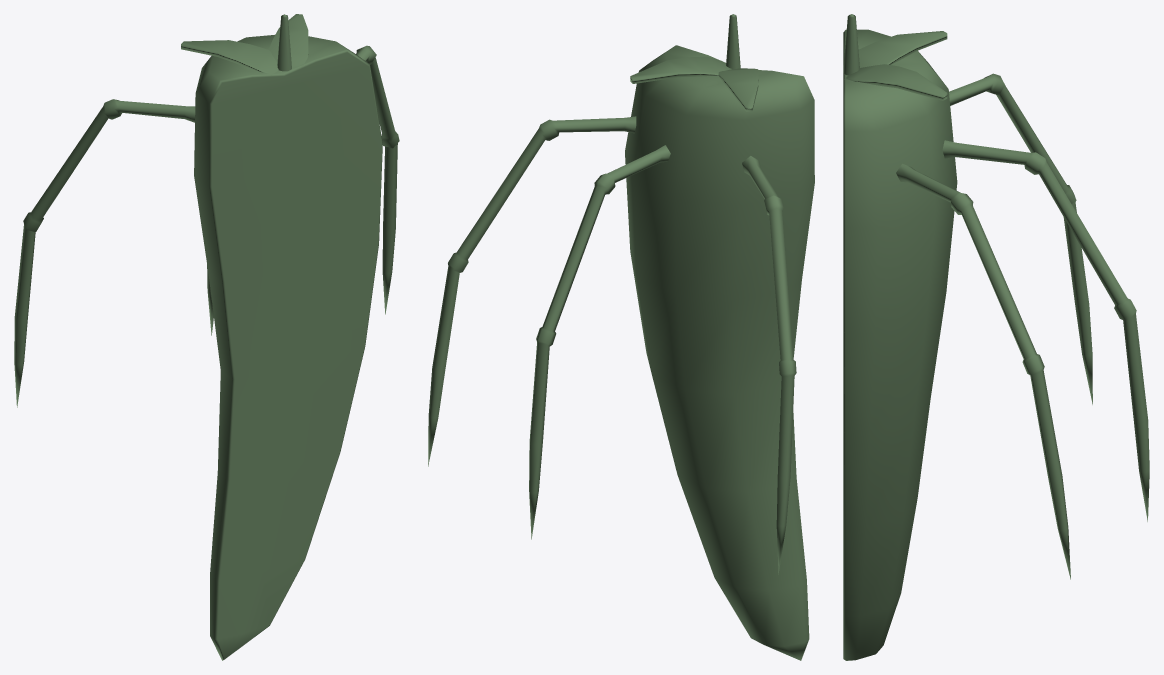
File: Food_Pepper_Half.fbx
3 views of the same model, side by side, from view 1: azimuth 30°, elevation 25°; view 2: azimuth 150°, elevation 25°; view 3: azimuth 270°, elevation 25° (orthographic). The views are drawn at different scales.
Visible parts, largest first — view 1: Pepper_Half; view 2: Pepper_Half; view 3: Pepper_Half.
Boxes of the visible parts, x1,y1,x2,y2 form: Pepper_Half: [14, 14, 399, 660]; Pepper_Half: [428, 14, 814, 660]; Pepper_Half: [843, 14, 1149, 660].
Size of the model in its own units: 24.91 by 40.94 by 16.7.
